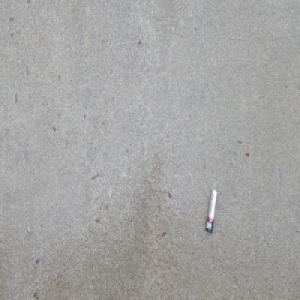Battery: (204, 187, 218, 234)
